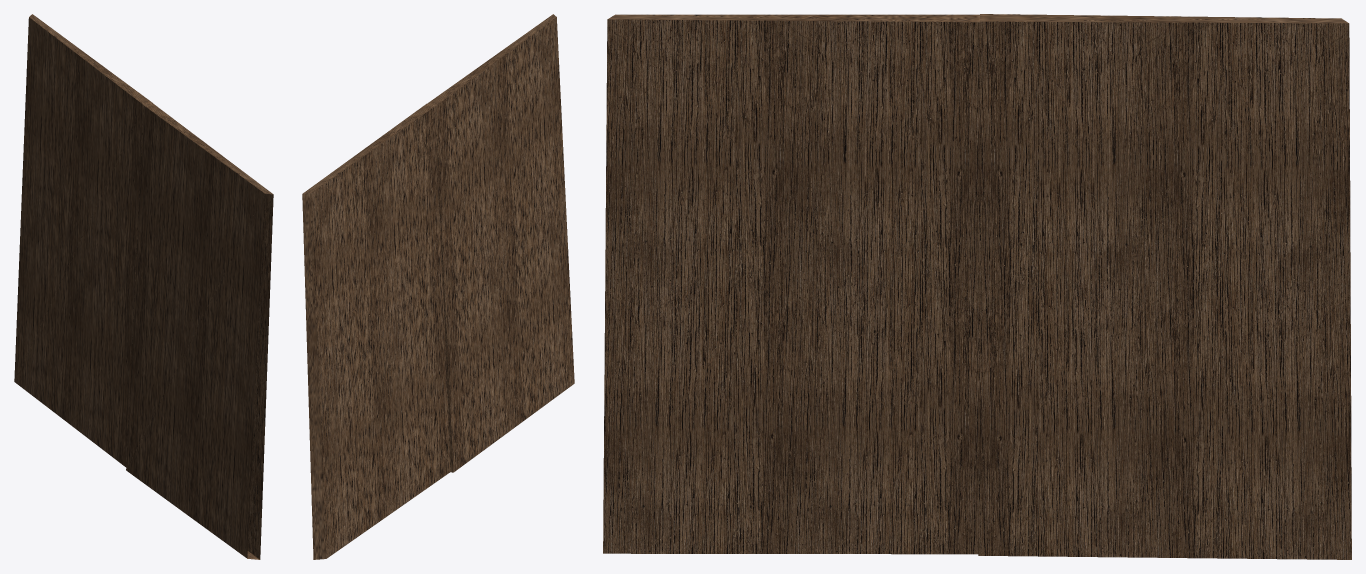
Rendered from wall.glb.
The picture shows the model from 3 angles, left to right: view 1: azimuth 30°, elevation 25°; view 2: azimuth 150°, elevation 25°; view 3: azimuth 270°, elevation 25°; orthographic projection. The views are drawn at different scales.
Parts seen in each view (by area): view 1: roof; view 2: roof; view 3: roof.
Boxes of the visible parts, x1,y1,x2,y2 form: roof: (14, 14, 273, 559); roof: (302, 14, 574, 559); roof: (603, 14, 1351, 559).
Size of the model in its own units: 0.6174 by 7.51 by 9.32.
1 material, 1 textured.
